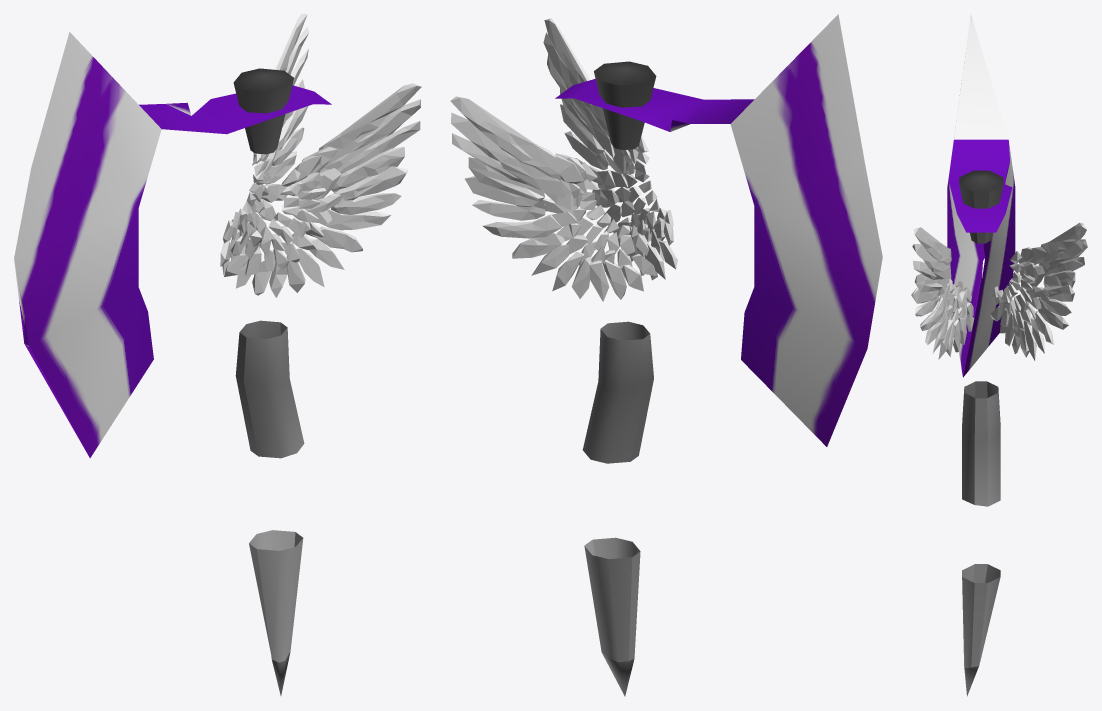
File: ljubicasta krila.fbx
3 renders of one model, left to right at view 1: azimuth 30°, elevation 25°; view 2: azimuth 150°, elevation 25°; view 3: azimuth 270°, elevation 25°, orthographic. The views are drawn at different scales.
Parts seen in each view (by area): view 1: axe_1handed, low poly wing.001, low poly wing; view 2: axe_1handed, low poly wing, low poly wing.001; view 3: axe_1handed, low poly wing, low poly wing.001.
Part boxes in pixels (box(x1,y1,x2,y2)): axe_1handed: box(14, 32, 331, 695); low poly wing.001: box(224, 83, 421, 297); low poly wing: box(220, 14, 309, 274); axe_1handed: box(555, 14, 882, 696); low poly wing: box(450, 96, 656, 301); low poly wing.001: box(543, 18, 677, 280); axe_1handed: box(947, 14, 1015, 696); low poly wing: box(990, 222, 1087, 361); low poly wing.001: box(911, 227, 974, 359).
Size of the model in its own units: 82.46 by 153 by 41.06.
2 materials, 1 textured.
